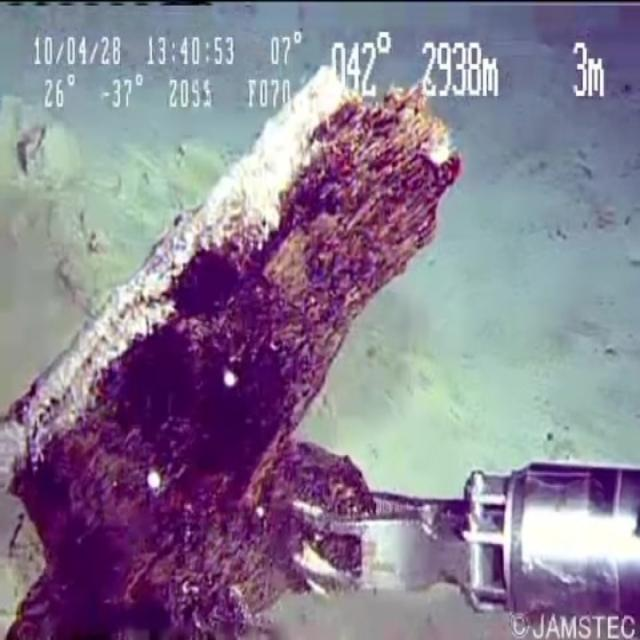Wood: (6, 39, 482, 640)
